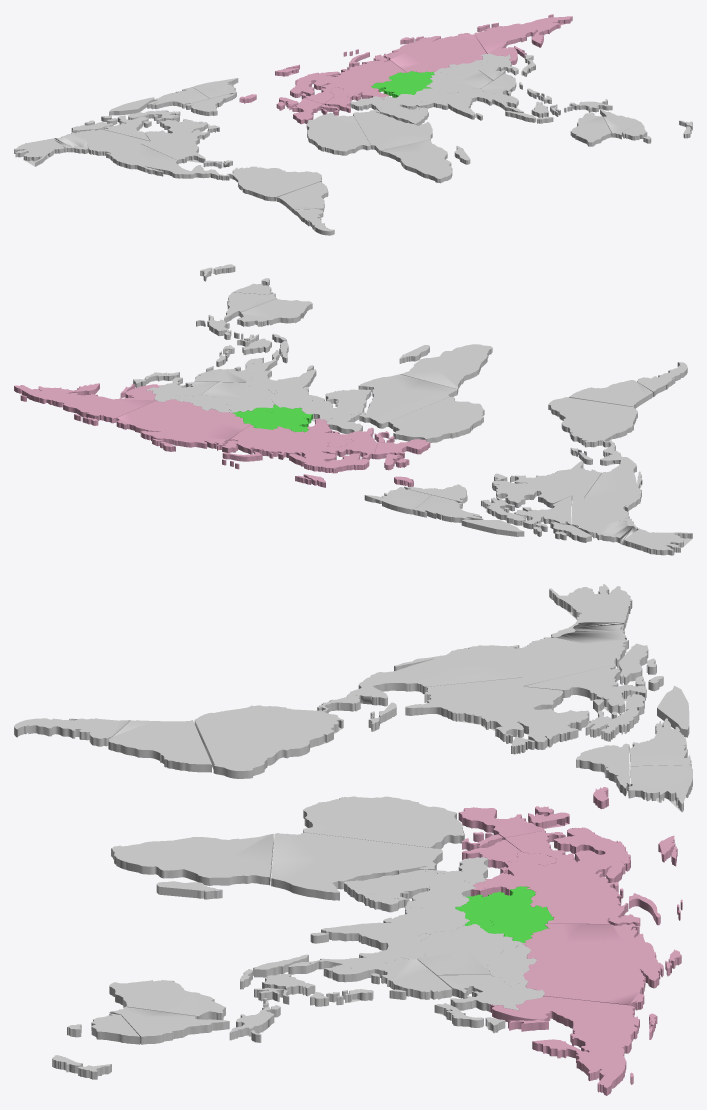
File: world.fbx
The picture shows the model from 3 angles, top to bottom: view 1: azimuth 30°, elevation 25°; view 2: azimuth 150°, elevation 25°; view 3: azimuth 270°, elevation 25°; orthographic projection. The views are drawn at different scales.
Parts seen in each view (by area): view 1: Центральная Россия, Восточная Россия, Север Южнаой Америки, Восточная Канада, Западная Россия, Западная Африка, Восточная Африка, Южная Африка, Западная Канада, Западная США, Восточная США, Западный Китай (+22 smaller); view 2: Центральная Россия, Западная Россия, Восточная Россия, Восточная Канада, Север Южнаой Америки, Восточная Африка, Западная Африка, Южная Африка, Западная Канада, Южная Канада, Западная Австралия, Западный Китай (+22 smaller); view 3: Центральная Россия, Восточная Россия, Восточная Африка, Север Южнаой Америки, Западная Россия, Восточная Канада, Южная Африка, Западная Африка, Западная Канада, Центр Южной Америки, Южная Канада, Восточная США (+27 smaller).
Boxes of the visible parts, left/top/right/bottom form: Центральная Россия: left=383, top=33, right=486, bottom=72; Восточная Россия: left=474, top=14, right=572, bottom=64; Север Южнаой Америки: left=232, top=166, right=321, bottom=201; Восточная Канада: left=71, top=97, right=219, bottom=141; Западная Россия: left=318, top=49, right=406, bottom=100; Западная Африка: left=306, top=112, right=370, bottom=155; Восточная Африка: left=353, top=109, right=432, bottom=154; Южная Африка: left=381, top=139, right=452, bottom=183; Западная Канада: left=53, top=129, right=149, bottom=155; Западная США: left=106, top=144, right=177, bottom=169; Восточная США: left=141, top=133, right=205, bottom=163; Западный Китай: left=426, top=70, right=492, bottom=92; Центральная Россия: left=116, top=399, right=250, bottom=451; Западная Россия: left=222, top=421, right=339, bottom=469; Восточная Россия: left=14, top=383, right=162, bottom=425; Восточная Канада: left=461, top=473, right=591, bottom=542; Север Южнаой Америки: left=548, top=397, right=637, bottom=447; Восточная Африка: left=358, top=374, right=457, bottom=428; Западная Африка: left=388, top=397, right=484, bottom=442; Южная Африка: left=400, top=344, right=492, bottom=393; Западная Канада: left=571, top=495, right=638, bottom=544; Южная Канада: left=492, top=475, right=571, bottom=508; Западная Австралия: left=237, top=298, right=312, bottom=326; Западный Китай: left=201, top=382, right=276, bottom=412; Центральная Россия: left=523, top=923, right=681, bottom=1010; Восточная Россия: left=489, top=996, right=657, bottom=1095; Восточная Африка: left=271, top=832, right=442, bottom=900; Север Южнаой Америки: left=194, top=705, right=343, bottom=778; Западная Россия: left=484, top=859, right=682, bottom=926; Восточная Канада: left=506, top=643, right=689, bottom=754; Южная Африка: left=111, top=833, right=273, bottom=885; Западная Африка: left=303, top=796, right=464, bottom=849; Западная Канада: left=523, top=622, right=628, bottom=686; Центр Южной Америки: left=108, top=720, right=211, bottom=772; Южная Канада: left=487, top=686, right=589, bottom=749; Восточная США: left=405, top=677, right=523, bottom=730.
Size of the model in its own units: 879 by 6.53 by 500.
